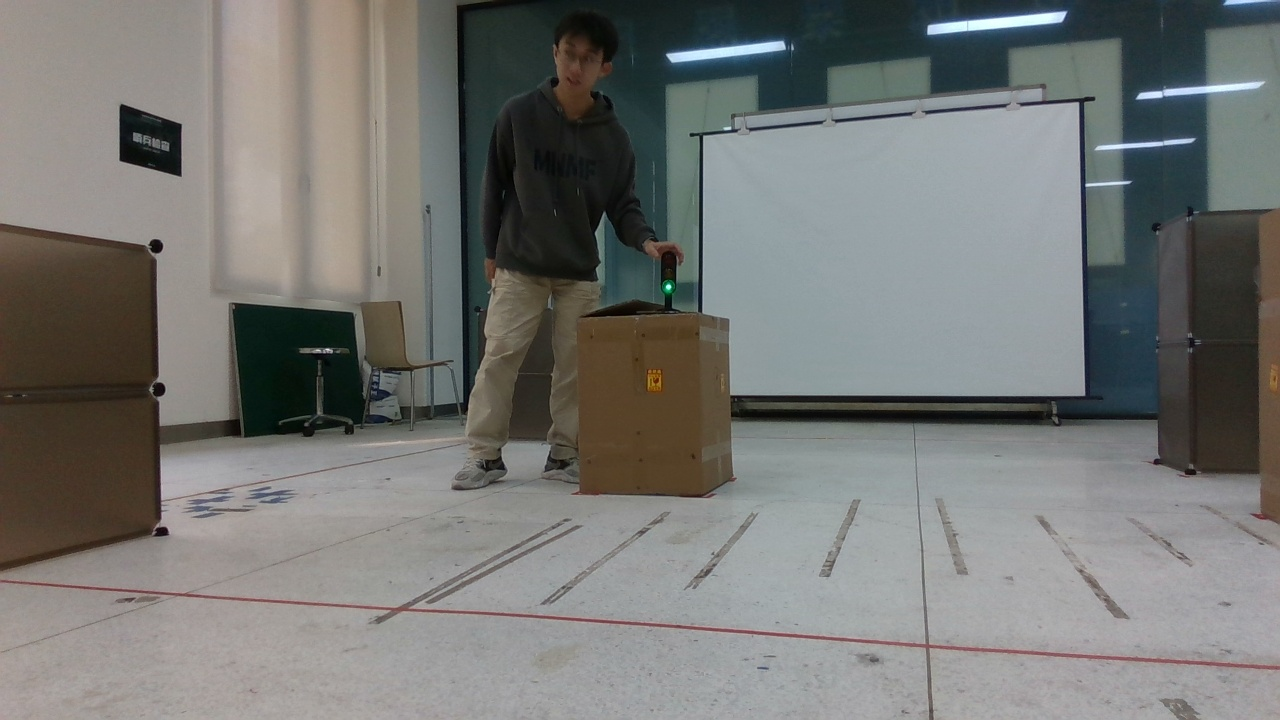green_light: (650, 238, 695, 313)
